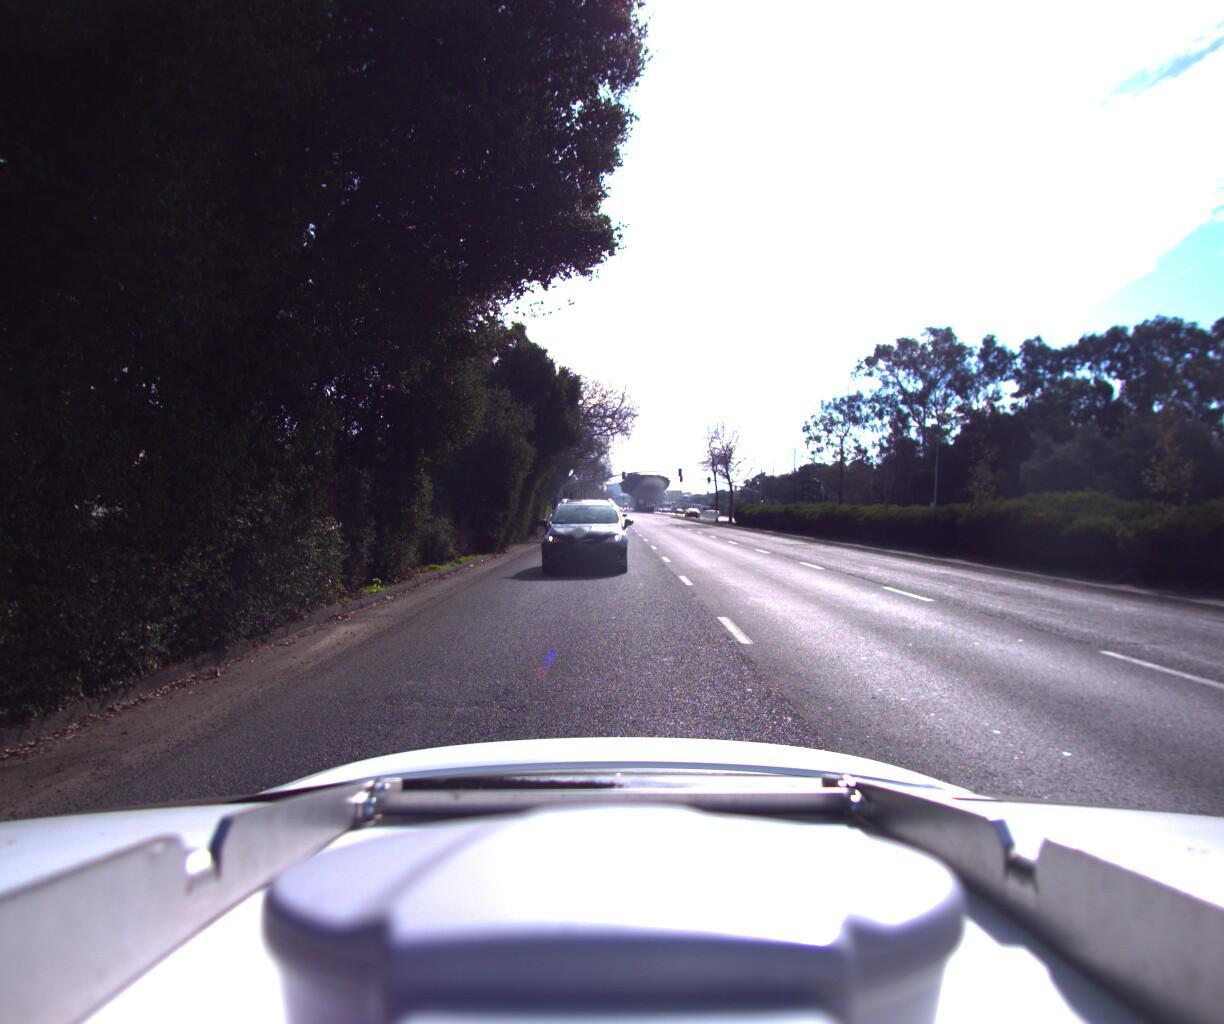car: (535, 492, 628, 575)
